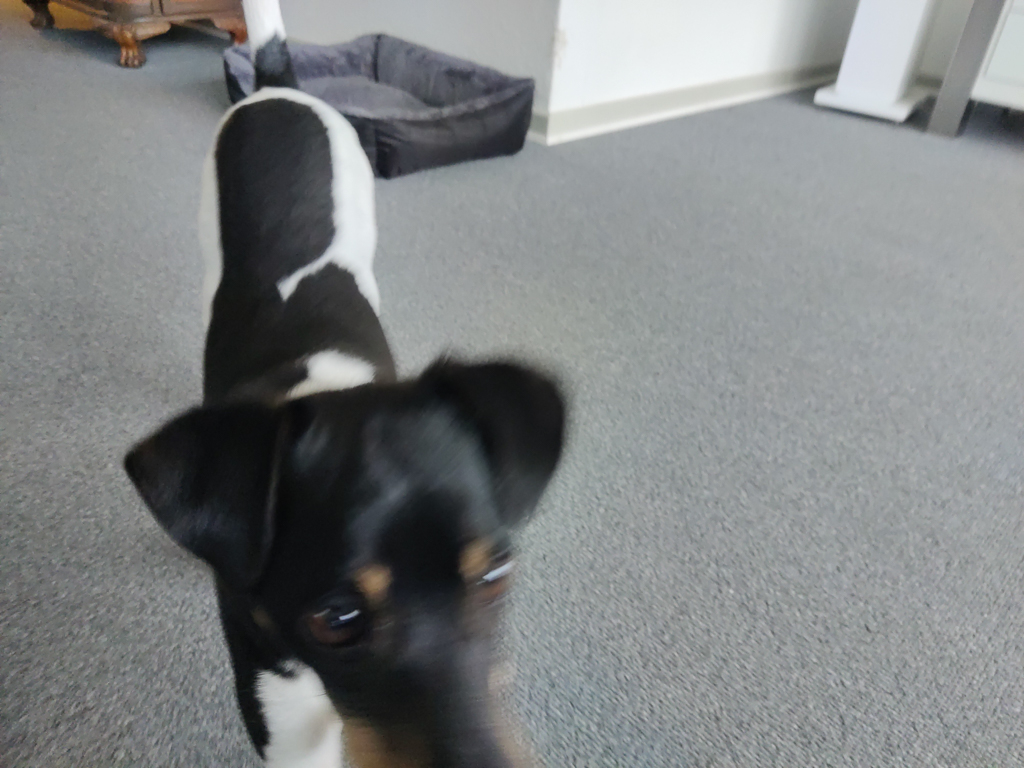Dog: (117, 0, 585, 768)
